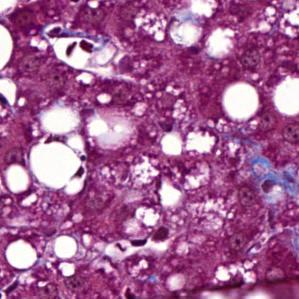steatosis: (26, 135, 92, 199), (216, 82, 256, 122)
